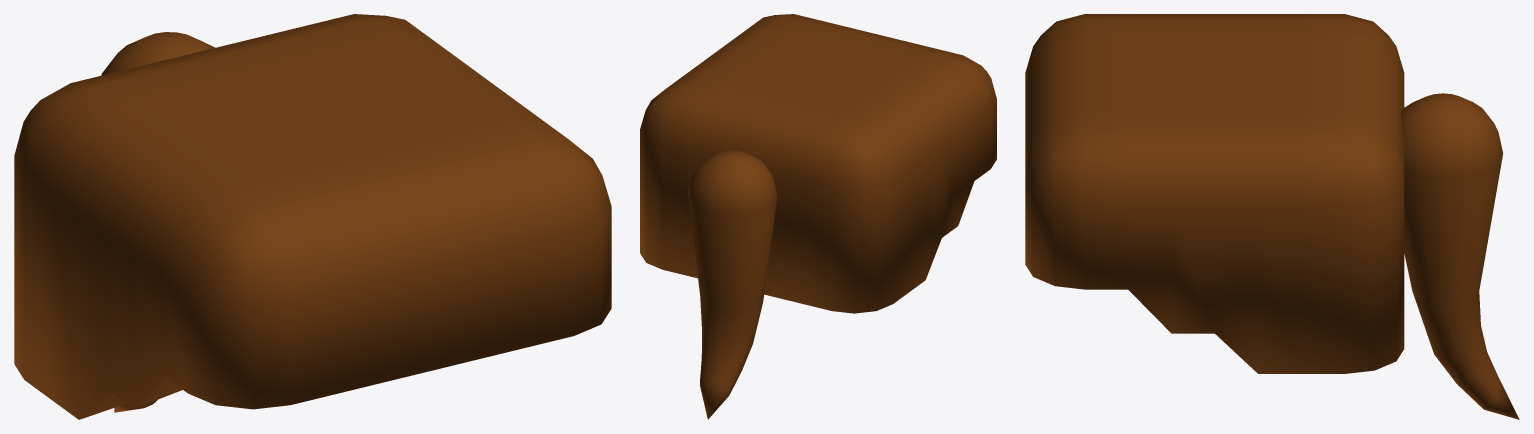
Rendered from hairPonytail.fbx.
3 renders of one model, left to right at view 1: azimuth 30°, elevation 25°; view 2: azimuth 150°, elevation 25°; view 3: azimuth 270°, elevation 25°, orthographic. The views are drawn at different scales.
Parts seen in each view (by area): view 1: Pony Tail Hair; view 2: Pony Tail Hair; view 3: Pony Tail Hair.
Part boxes in pixels (<box>): Pony Tail Hair: <box>14,14,611,419</box>; Pony Tail Hair: <box>640,14,996,419</box>; Pony Tail Hair: <box>1025,14,1519,419</box>.
Size of the model in its own units: 55.5 by 72.38 by 56.24.
